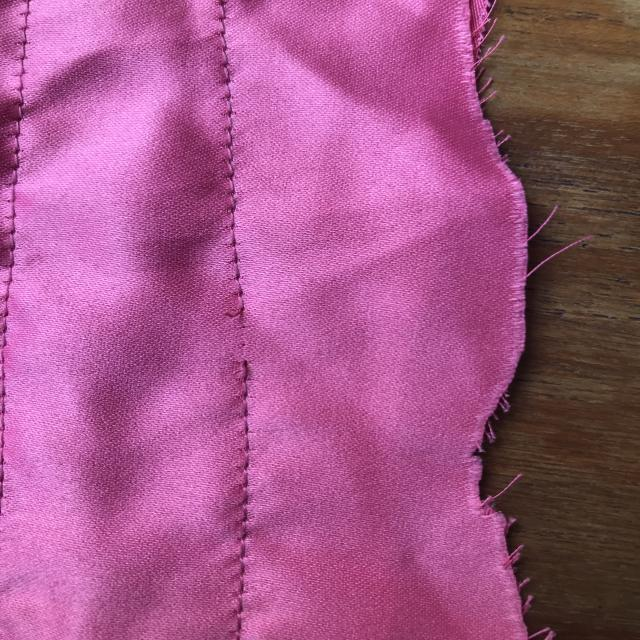broken: (215, 294, 273, 387)
